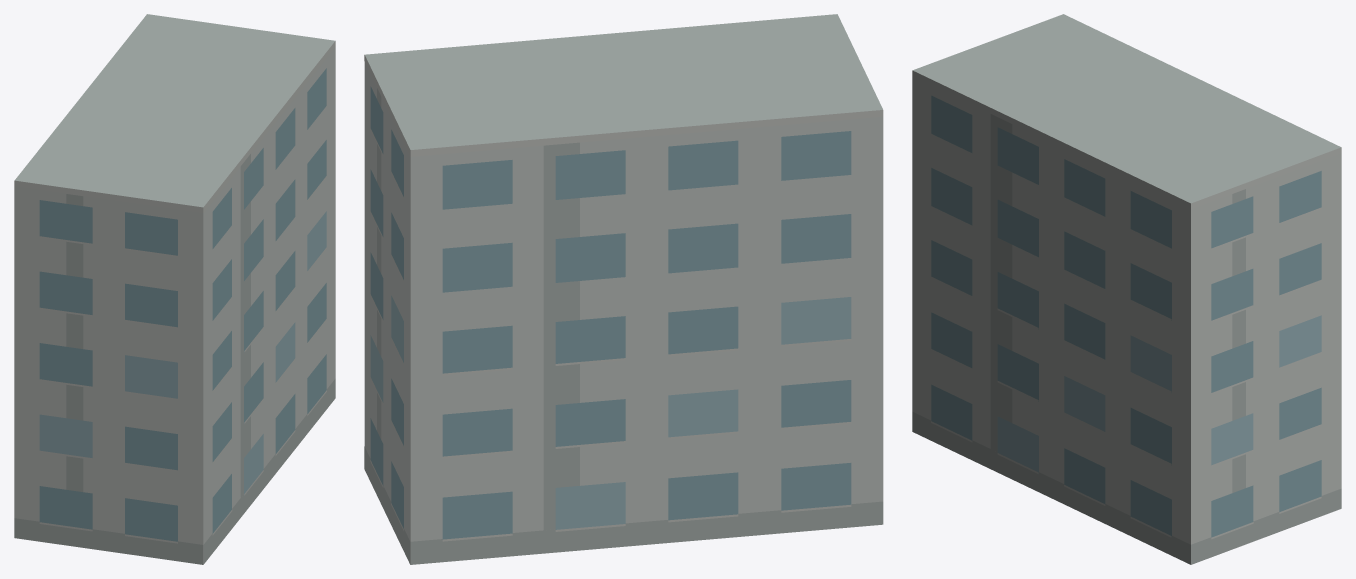
The model's file is survey-upis-32843757.glb.
3 views of the same model, side by side, from view 1: azimuth 30°, elevation 25°; view 2: azimuth 150°, elevation 25°; view 3: azimuth 270°, elevation 25° (orthographic). The views are drawn at different scales.
Visible parts, largest first — view 1: survey-upis-32843757.tmp; view 2: survey-upis-32843757.tmp; view 3: survey-upis-32843757.tmp.
Boxes of the visible parts, <box> form: survey-upis-32843757.tmp: <box>14,14,335,564</box>; survey-upis-32843757.tmp: <box>364,14,883,564</box>; survey-upis-32843757.tmp: <box>912,14,1341,564</box>.
Size of the model in its own units: 16.54 by 14.7 by 15.83.
